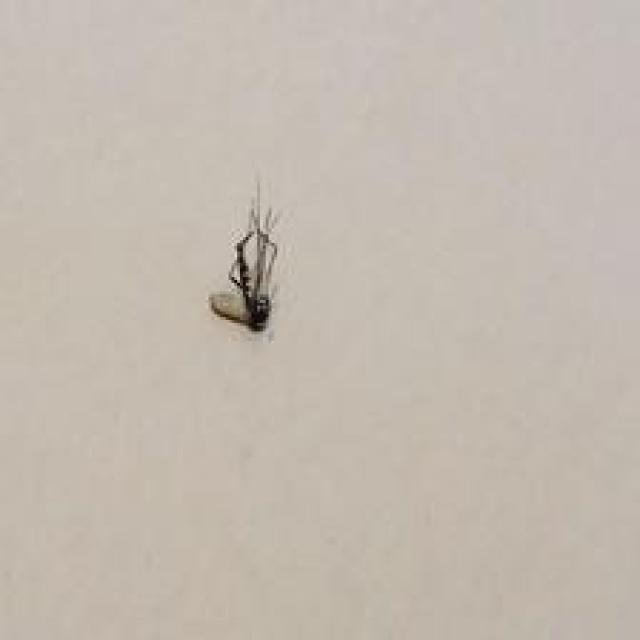Aedes albopictus: (207, 177, 282, 334)
